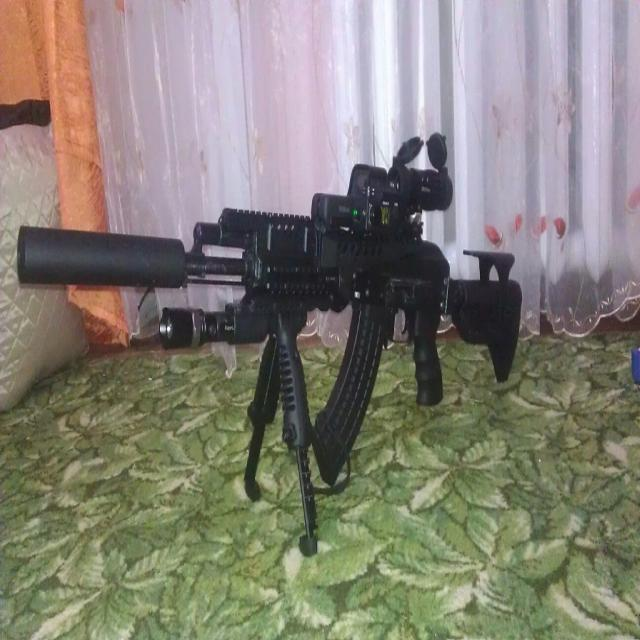firearm: (15, 131, 524, 559)
